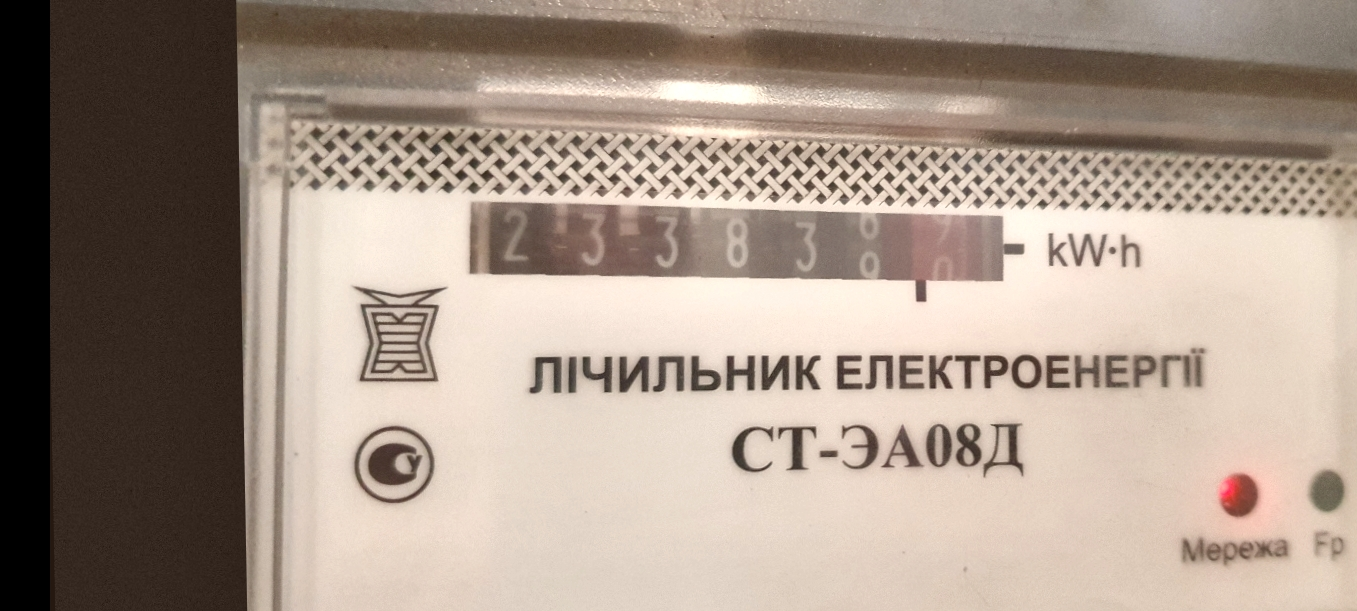0: (930, 252, 957, 287)
2: (497, 204, 537, 266)
3: (648, 209, 685, 273), (579, 209, 608, 268), (793, 216, 822, 273)
8: (720, 212, 755, 271), (858, 208, 884, 241)
9: (927, 209, 958, 248), (857, 247, 886, 283)
screen: (440, 169, 1035, 336)
